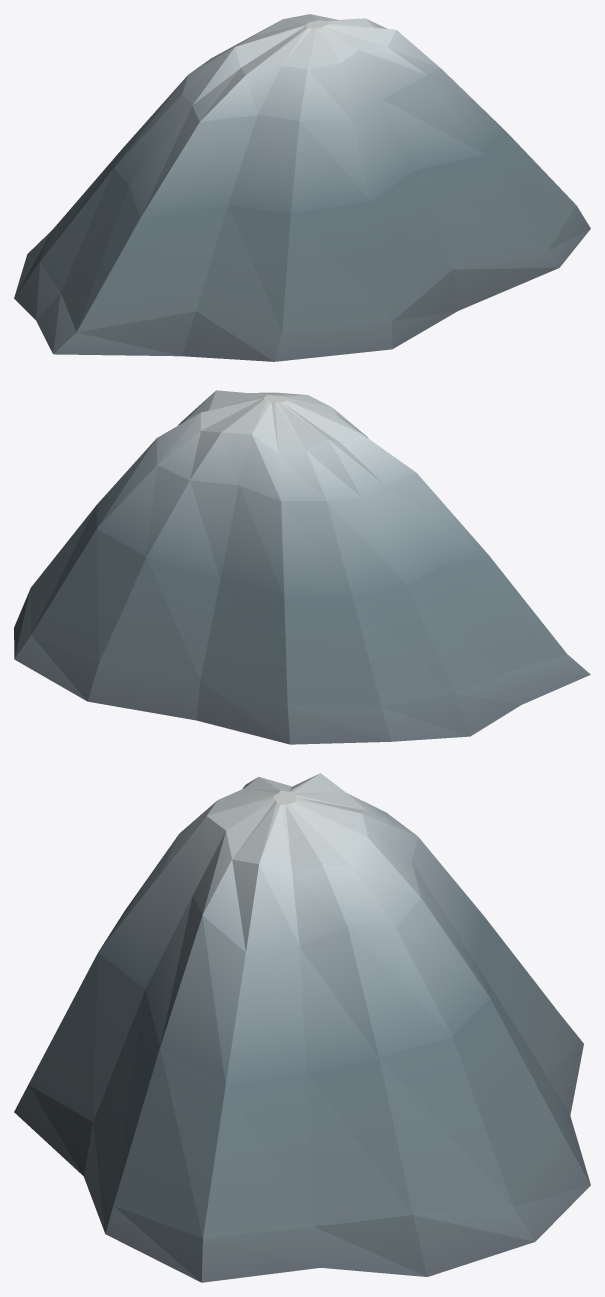
File: alpine_ridge_25.glb
The picture shows the model from 3 angles, top to bottom: view 1: azimuth 30°, elevation 25°; view 2: azimuth 150°, elevation 25°; view 3: azimuth 270°, elevation 25°; orthographic projection. The views are drawn at different scales.
Parts seen in each view (by area): view 1: Ridge25; view 2: Ridge25; view 3: Ridge25.
Part boxes in pixels (x1,y1,x2,y2): Ridge25: (14,14,590,361); Ridge25: (14,390,590,744); Ridge25: (14,773,590,1282).
Size of the model in its own units: 13.05 by 5.79 by 8.98.
